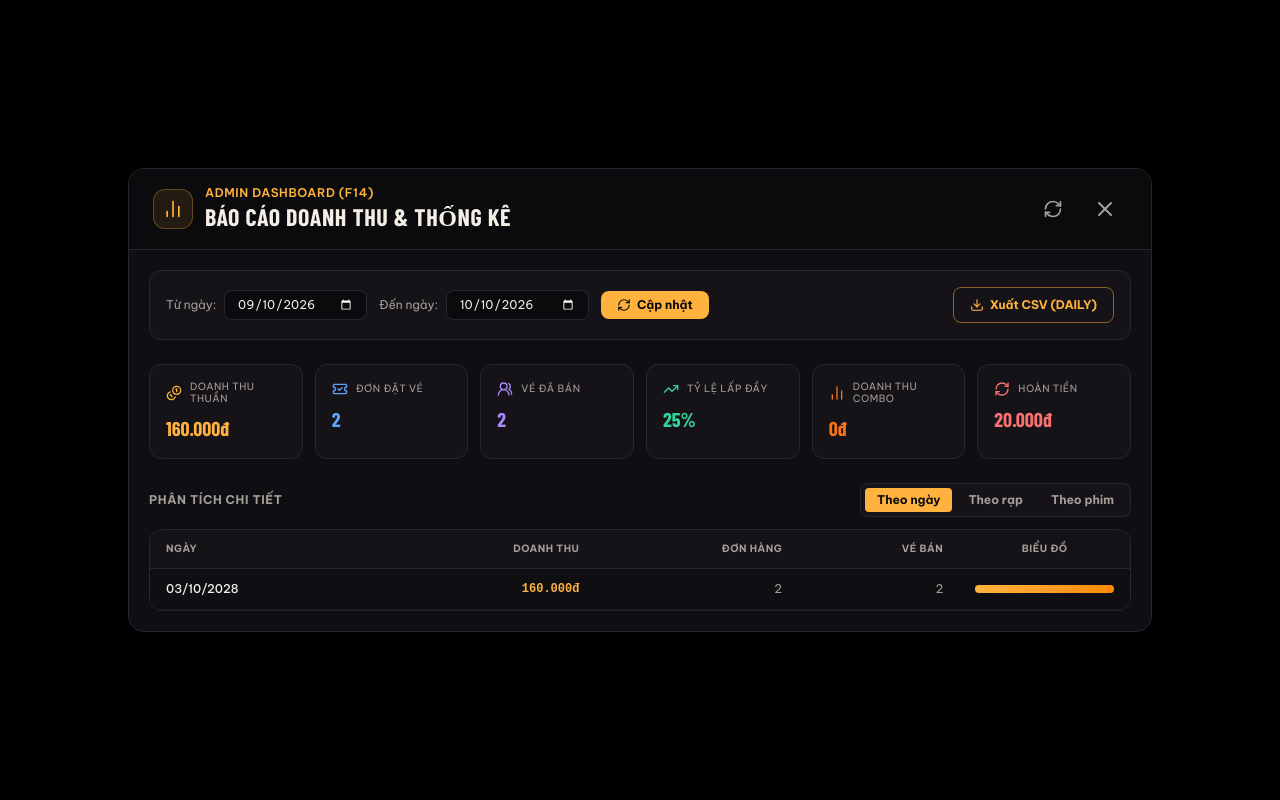
Scenario: Management reports › changes the breakdown query to the selected cinema view
Expected: the cell "03/10/2028" is shown, x1=150 y1=569 x2=380 y2=610
What coordinates should you click on to do the following:
click the button "Theo rạp"
I would click on:
 (996, 500)
Its box is x1=956 y1=488 x2=1035 y2=512.
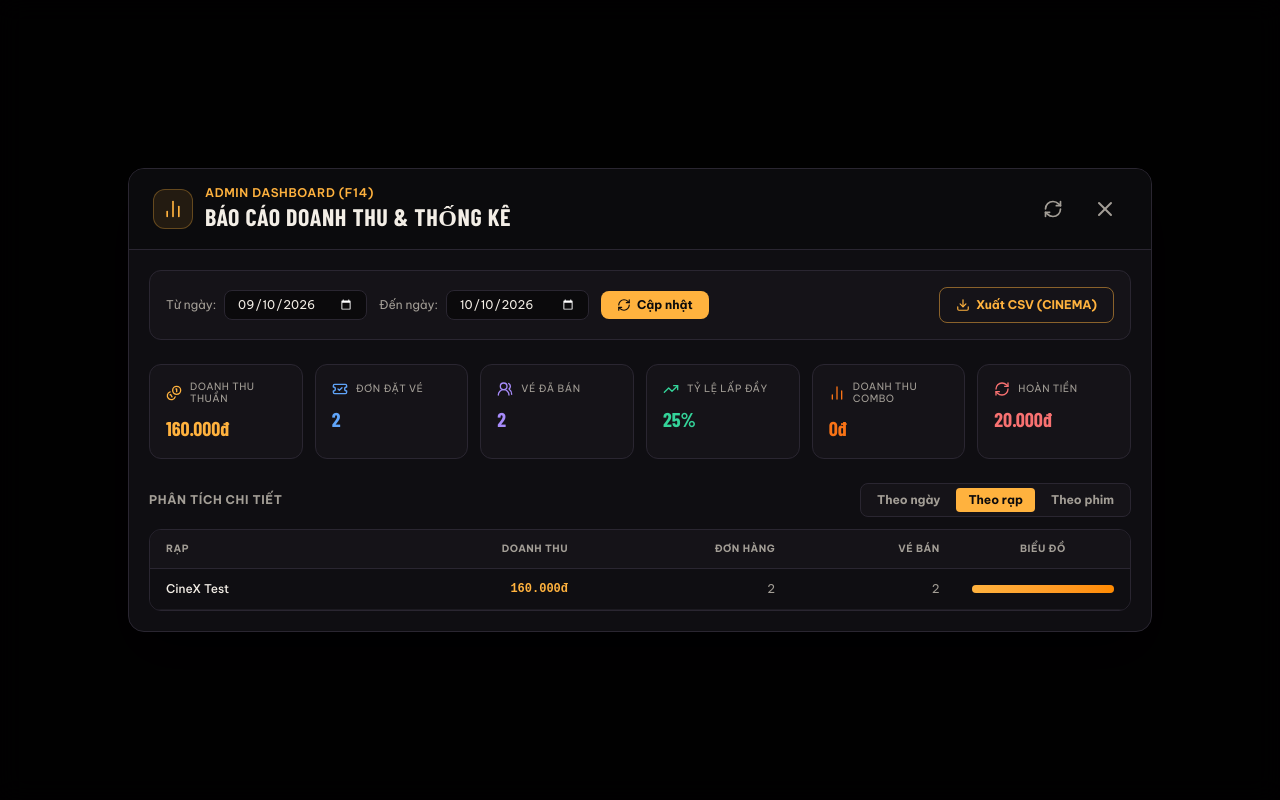
Now the cell "CineX Test" is shown, box x1=150 y1=569 x2=364 y2=610
Now the cell "03/10/2028" is gone
